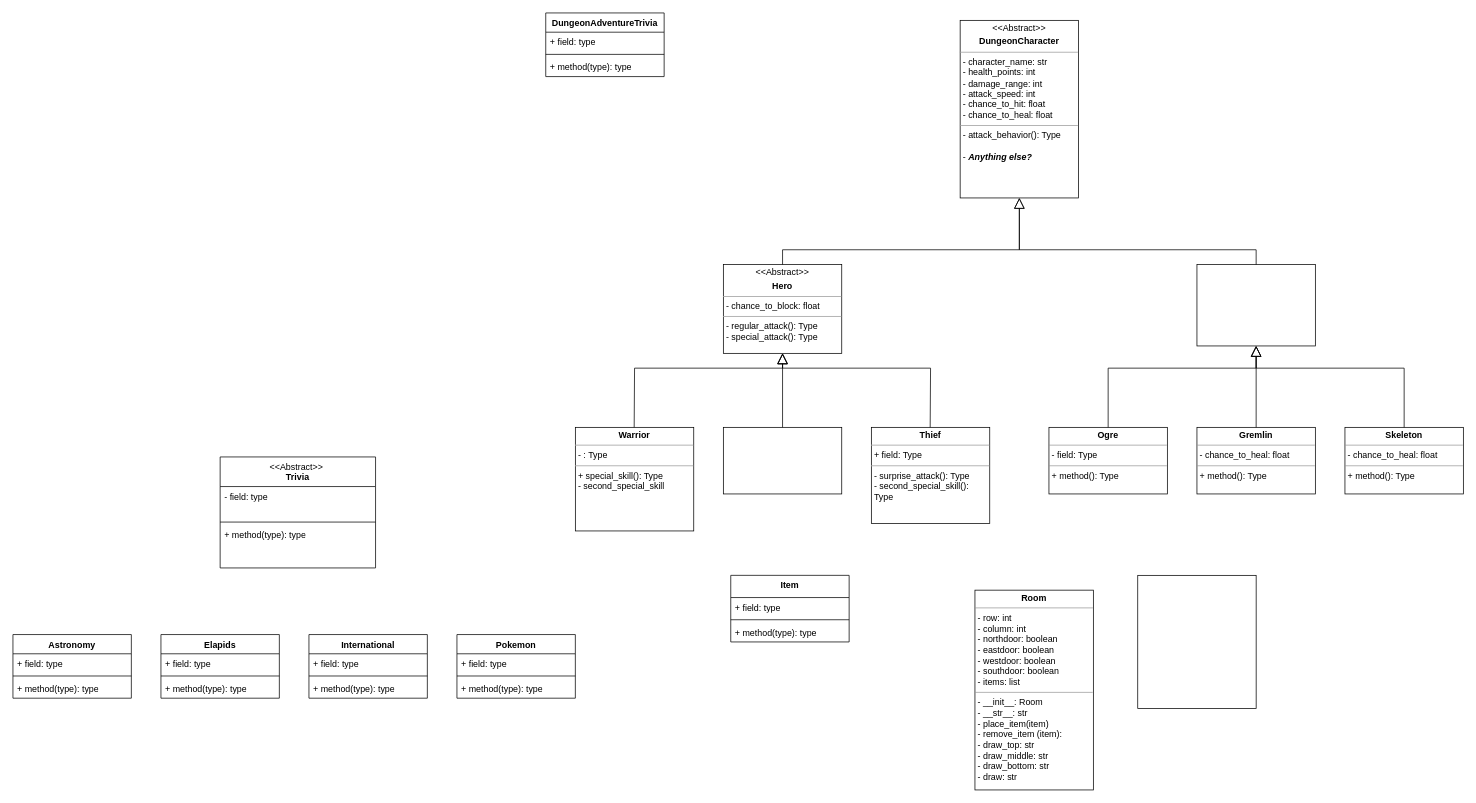
Image size: 1476x803. Some labels were removed from this diagram. The centre of each missing label's shape, as x and y in pixels:
"<<Abstract>> Monster - field: Type - heal(): Type" belongs at pixel 1255 305.
"Maze - rows: int - columns: int - maze: list - __init__: Maze - __str__: str" belongs at pixel 1196 642.
"Priestess + field: Type - heal(): int - second_special_skill" belongs at pixel 782 460.
